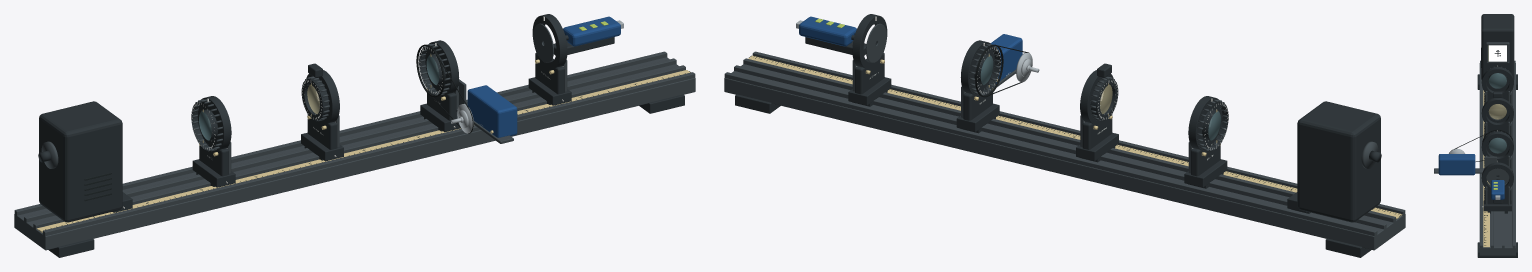
Rendered from jones-product.glb.
The picture shows the model from 3 angles, left to right: view 1: azimuth 30°, elevation 25°; view 2: azimuth 150°, elevation 25°; view 3: azimuth 270°, elevation 25°; orthographic projection. The views are drawn at different scales.
Parts seen in each view (by area): view 1: Extruded rail, Lamp housing, Channel lip, Channel lip.002, Channel lip.003, Channel lip.001, Ruler strip, PS2120A_Housing, PS2176_Housing, PolarizerRotor_Dial, DetectorCarrier_FixedRing, AnalyzerRotor_Dial (+16 smaller); view 2: Extruded rail, Lamp housing, Channel lip.003, Channel lip.002, Channel lip.001, Channel lip, Ruler strip, PS2176_Housing, DetectorCarrier_FixedRing, PolarizerRotor_Dial, PS2120A_Housing, AnalyzerRotor_Dial (+16 smaller); view 3: Extruded rail, Lamp housing, PS2120A_Housing, Channel lip.003, Channel lip, RetarderCarrier_FixedRing, AnalyzerCarrier_FixedRing, PolarizerCarrier_FixedRing, DetectorCarrier_FixedRing, Ruler strip, Target luminous face, DetectorAperture (+22 smaller).
Boxes of the visible parts, x1,y1,x2,y2 form: Extruded rail: (14,57,695,250); Lamp housing: (39,101,122,222); Channel lip: (42,72,695,236); Channel lip.002: (24,58,676,222); Channel lip.003: (14,51,667,215); Channel lip.001: (33,65,685,229); Ruler strip: (36,70,690,232); PS2120A_Housing: (467,85,517,137); PS2176_Housing: (563,16,620,46); PolarizerRotor_Dial: (191,101,222,150); DetectorCarrier_FixedRing: (532,14,567,68); AnalyzerRotor_Dial: (419,46,450,94); Extruded rail: (724,64,1405,250); Lamp housing: (1297,101,1380,222); Channel lip.003: (724,72,1377,236); Channel lip.002: (734,65,1386,229); Channel lip.001: (743,58,1395,222); Channel lip: (752,51,1405,215); Ruler strip: (748,55,1402,218); PS2176_Housing: (799,16,856,46); DetectorCarrier_FixedRing: (852,14,887,69); PolarizerRotor_Dial: (1197,101,1228,150); PS2120A_Housing: (990,34,1022,83); AnalyzerRotor_Dial: (969,45,1000,94); Extruded rail: (1479,63,1515,255); Lamp housing: (1481,14,1514,79); PS2120A_Housing: (1438,154,1475,175); Channel lip.003: (1512,60,1515,248); Channel lip: (1480,60,1482,248); RetarderCarrier_FixedRing: (1481,98,1513,128); AnalyzerCarrier_FixedRing: (1481,131,1513,162); PolarizerCarrier_FixedRing: (1481,67,1513,96); DetectorCarrier_FixedRing: (1481,162,1513,191); Ruler strip: (1483,90,1489,247); Target luminous face: (1488,45,1506,61); DetectorAperture: (1486,168,1509,184).
Bounding box in the file's own units: 1.2 × 0.211 × 0.23.
